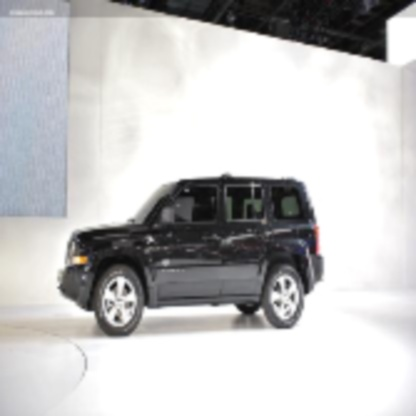Vehicle: (58, 174, 324, 328)
